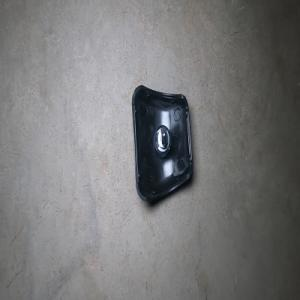LuggagePart: (130, 84, 194, 205)
